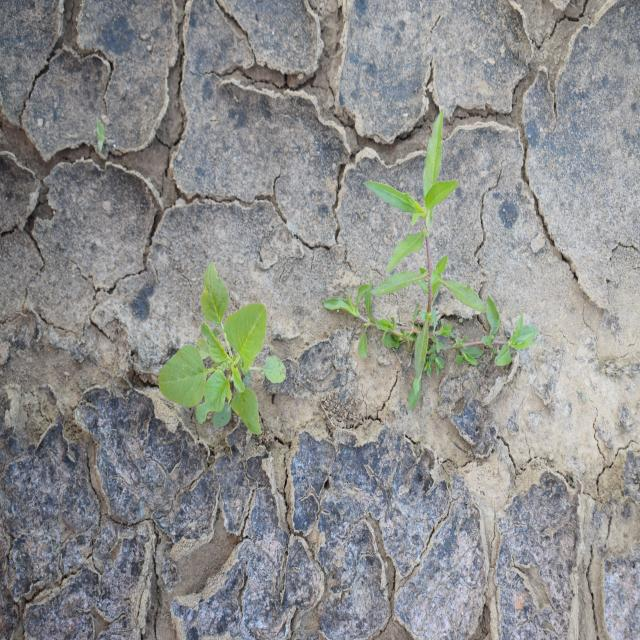Eclipta: (321, 106, 540, 411)
PalmerAmaranth: (157, 262, 287, 436)
